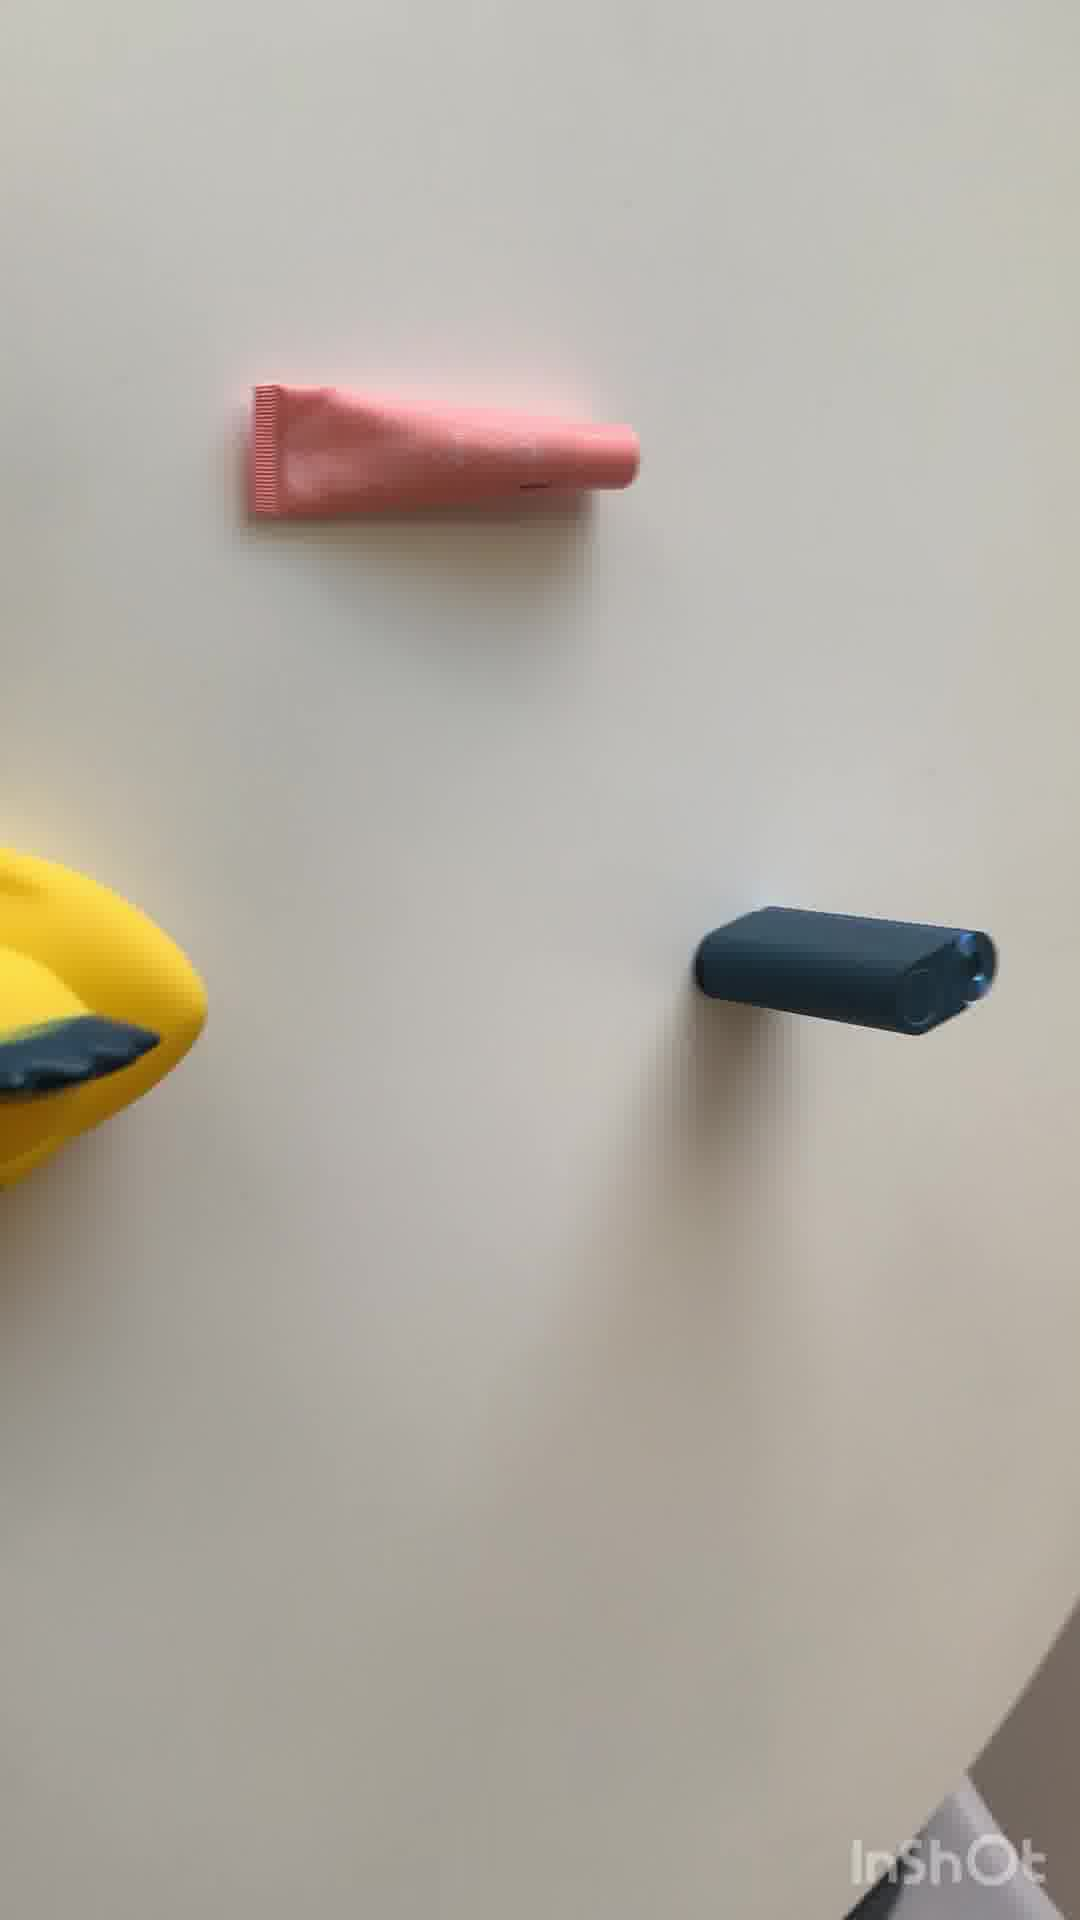duck: (1, 839, 210, 1211)
glo: (680, 905, 1010, 1036)
lip balm: (231, 380, 646, 526)
